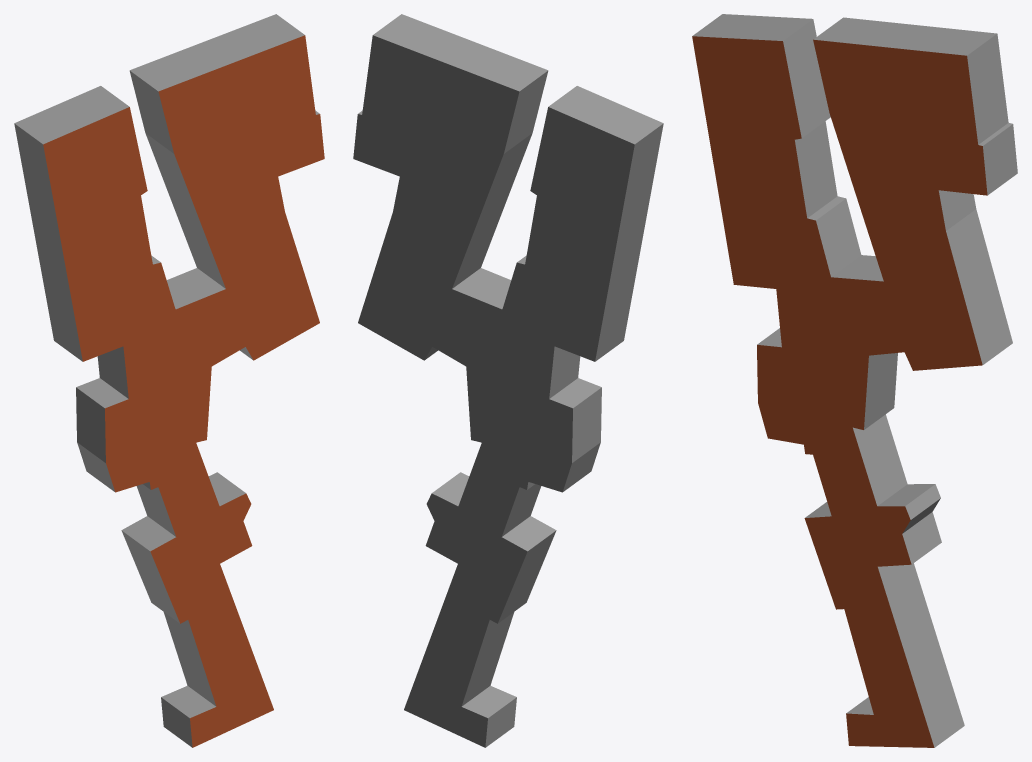
File: construction_3319_assumed_A_Casa_h6m.obj
The picture shows the model from 3 angles, left to right: view 1: azimuth 30°, elevation 25°; view 2: azimuth 150°, elevation 25°; view 3: azimuth 330°, elevation 25°; orthographic projection. The views are drawn at different scales.
Parts seen in each view (by area): view 1: construction_3319_assumed_A_Casa; view 2: construction_3319_assumed_A_Casa; view 3: construction_3319_assumed_A_Casa.
Part boxes in pixels (x1,y1,x2,y2): construction_3319_assumed_A_Casa: [14, 14, 324, 747]; construction_3319_assumed_A_Casa: [353, 14, 663, 747]; construction_3319_assumed_A_Casa: [692, 14, 1017, 747].
Size of the model in its own units: 33.71 by 78.4 by 6.
